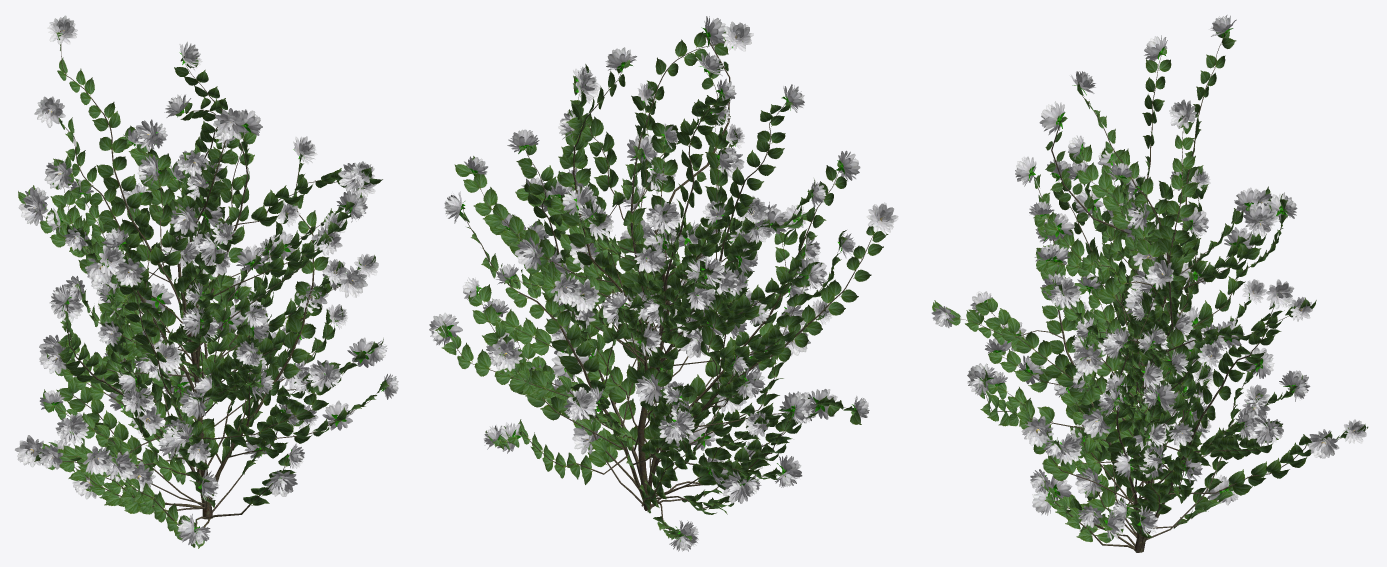
File: dwarf_snowflake_mock_orange_flowers_spring.glb
3 renders of one model, left to right at view 1: azimuth 30°, elevation 25°; view 2: azimuth 150°, elevation 25°; view 3: azimuth 270°, elevation 25°, orthographic. The views are drawn at different scales.
Visible parts, largest first — view 1: Object_10, Object_7, Object_5; view 2: Object_10, Object_7, Object_5; view 3: Object_10, Object_7, Object_5.
Boxes of the visible parts, left/top/right/bottom form: Object_10: left=18, top=32, right=389, bottom=548; Object_7: left=15, top=15, right=398, bottom=545; Object_5: left=42, top=44, right=376, bottom=527; Object_10: left=435, top=31, right=888, bottom=542; Object_7: left=429, top=16, right=898, bottom=551; Object_5: left=448, top=36, right=873, bottom=537; Object_10: left=932, top=30, right=1368, bottom=543; Object_7: left=931, top=15, right=1366, bottom=539; Object_5: left=957, top=33, right=1341, bottom=552.
Bounding box in the file's own units: 1.91 × 2.44 × 2.
Materials: 3 (3 with a texture image).
